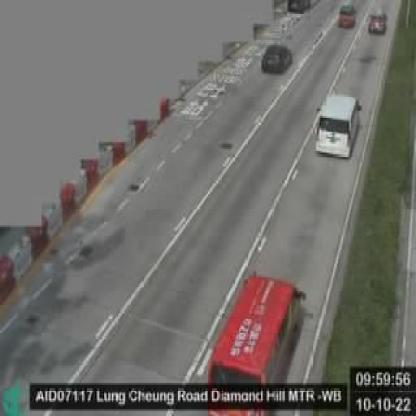Bus: (203, 275, 302, 414)
Car: (314, 94, 361, 155), (263, 43, 293, 72), (367, 10, 386, 33), (338, 1, 355, 26)
